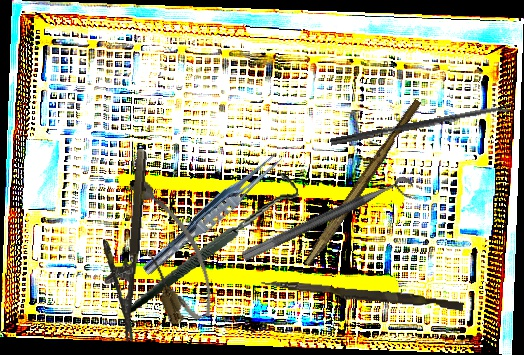Cannula: (118, 166, 223, 330)
Fixation Ring: (240, 173, 420, 276)
Hook Surgical: (108, 170, 313, 315)
Needle Holder: (94, 146, 150, 343)
Pusher: (259, 279, 465, 311)
Scalpel Handle: (303, 96, 423, 270)
Surgical Spoon: (329, 103, 514, 147)
Tissue Forceps: (139, 145, 287, 282)
